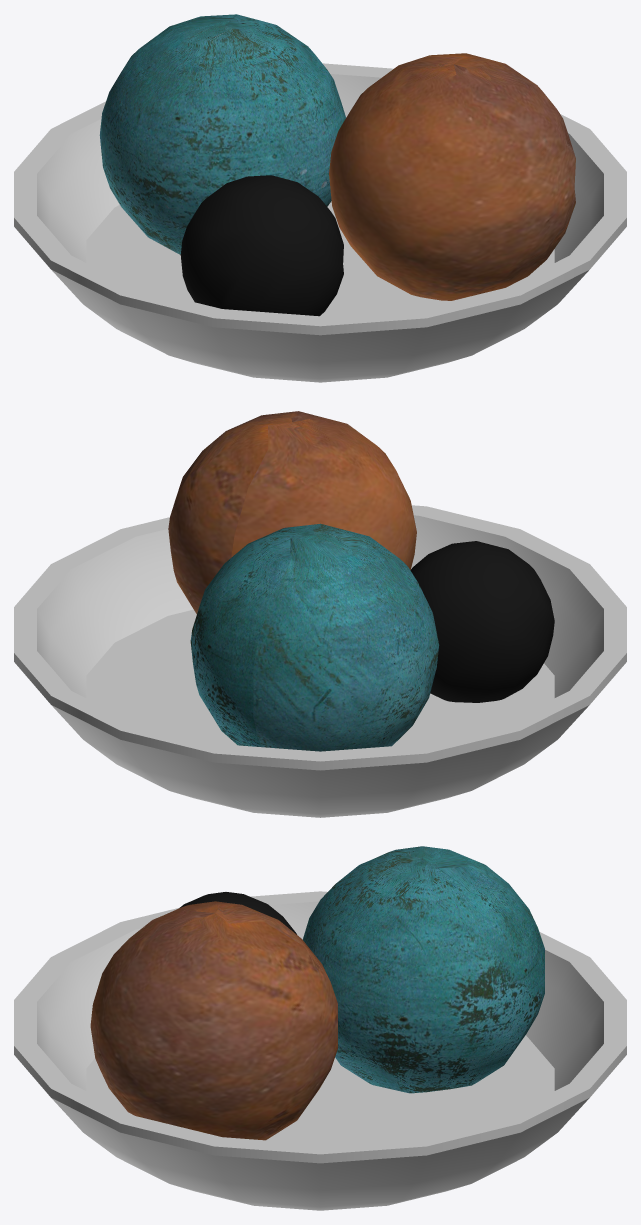
Rendered from Balls vase.FBX.
The picture shows the model from 3 angles, top to bottom: view 1: azimuth 30°, elevation 25°; view 2: azimuth 150°, elevation 25°; view 3: azimuth 270°, elevation 25°; orthographic projection.
Visible parts, largest first — view 1: vase, ball2, ball1, ball3; view 2: vase, ball1, ball2, ball3; view 3: vase, ball2, ball1, ball3.
Boxes of the visible parts, left/top/right/bottom form: vase: left=14, top=63, right=626, bottom=382; ball2: left=329, top=53, right=575, bottom=300; ball1: left=99, top=14, right=345, bottom=254; ball3: left=180, top=175, right=343, bottom=316; vase: left=14, top=505, right=626, bottom=817; ball1: left=190, top=523, right=439, bottom=751; ball2: left=168, top=411, right=416, bottom=614; ball3: left=410, top=541, right=554, bottom=702; vase: left=14, top=891, right=626, bottom=1210; ball2: left=90, top=901, right=337, bottom=1140; ball1: left=302, top=846, right=544, bottom=1093; ball3: left=180, top=892, right=296, bottom=934.
Bounding box in the file's own units: 30.87 × 30.4 × 14.59.
